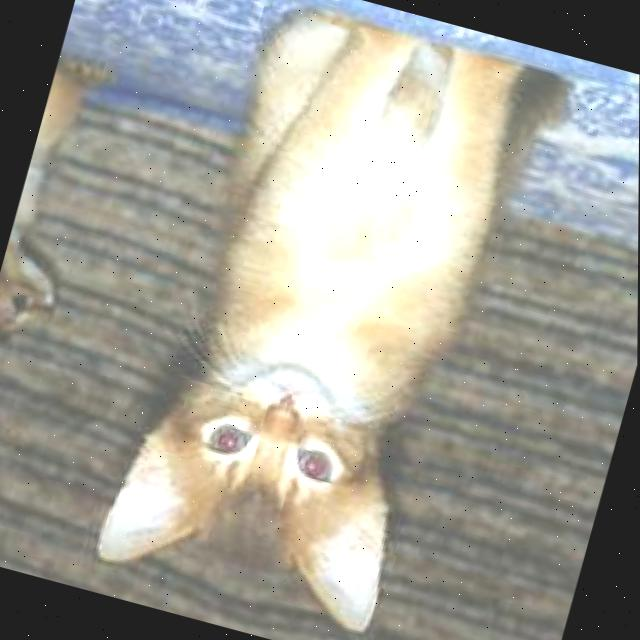Abyssinian: (71, 0, 601, 640)
